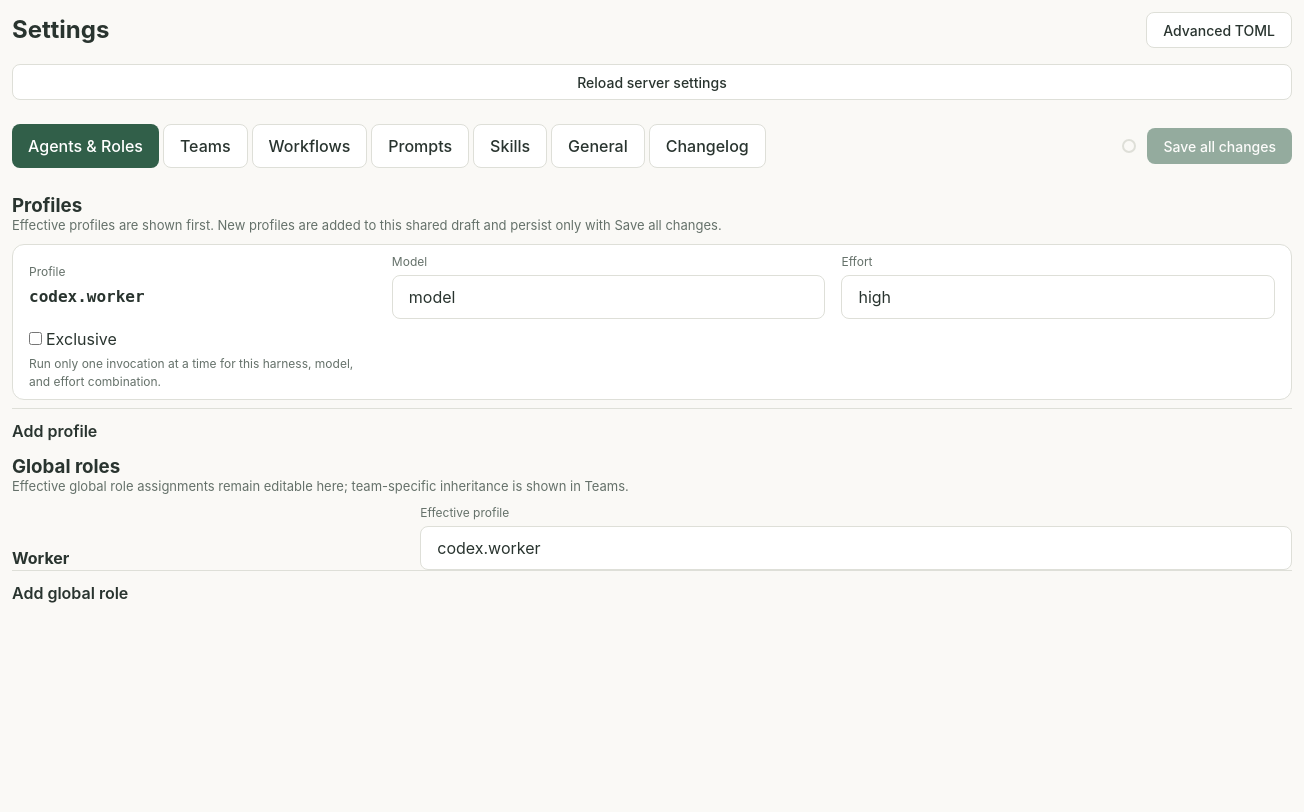
Test: GlobalSettings › previews unsaved repair thresholds and inheritance sources from the current draft
This screenshot has width=1304, height=812.
Click the tab "Workflows" at [309, 146], box top-left (252, 124), bottom-right (367, 168)
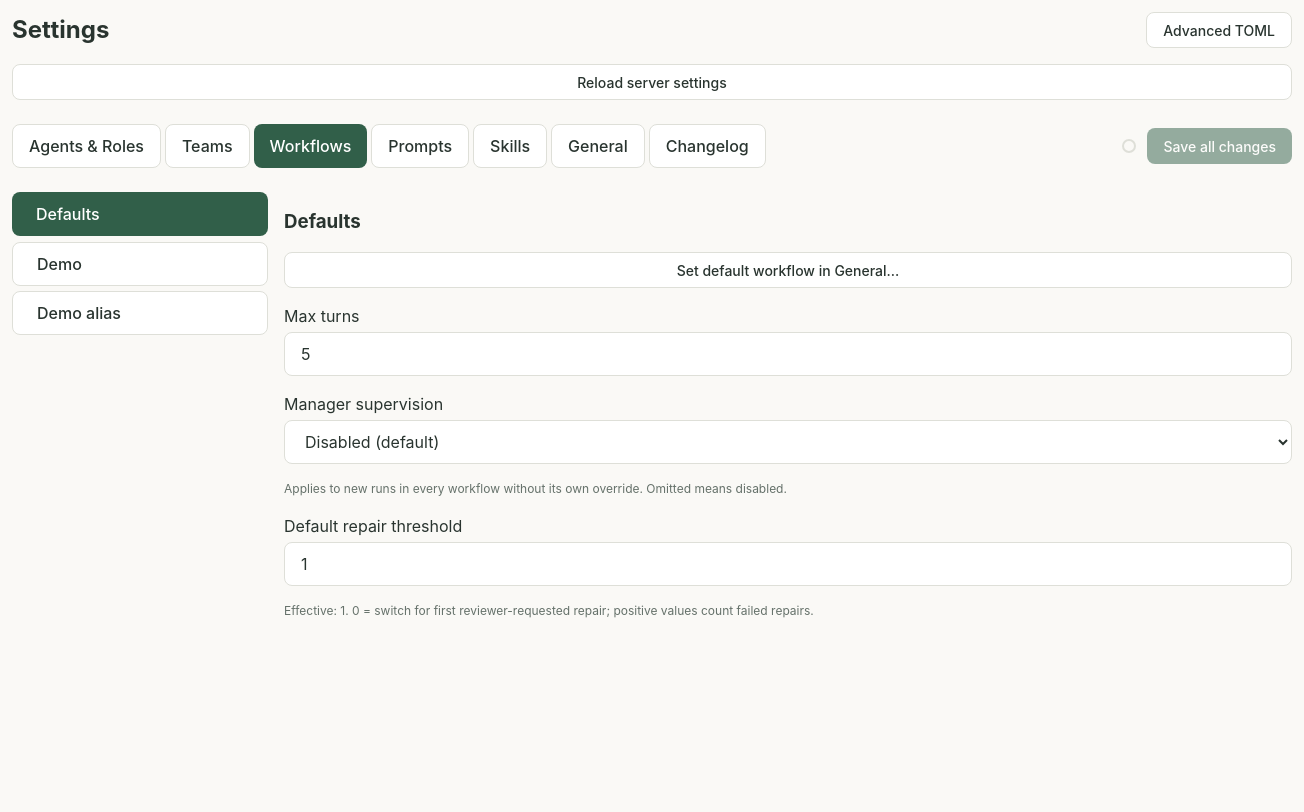
Replace the text in the number field labelled "Default repair threshold" with "3" at [788, 564], box top-left (284, 542), bottom-right (1292, 586)
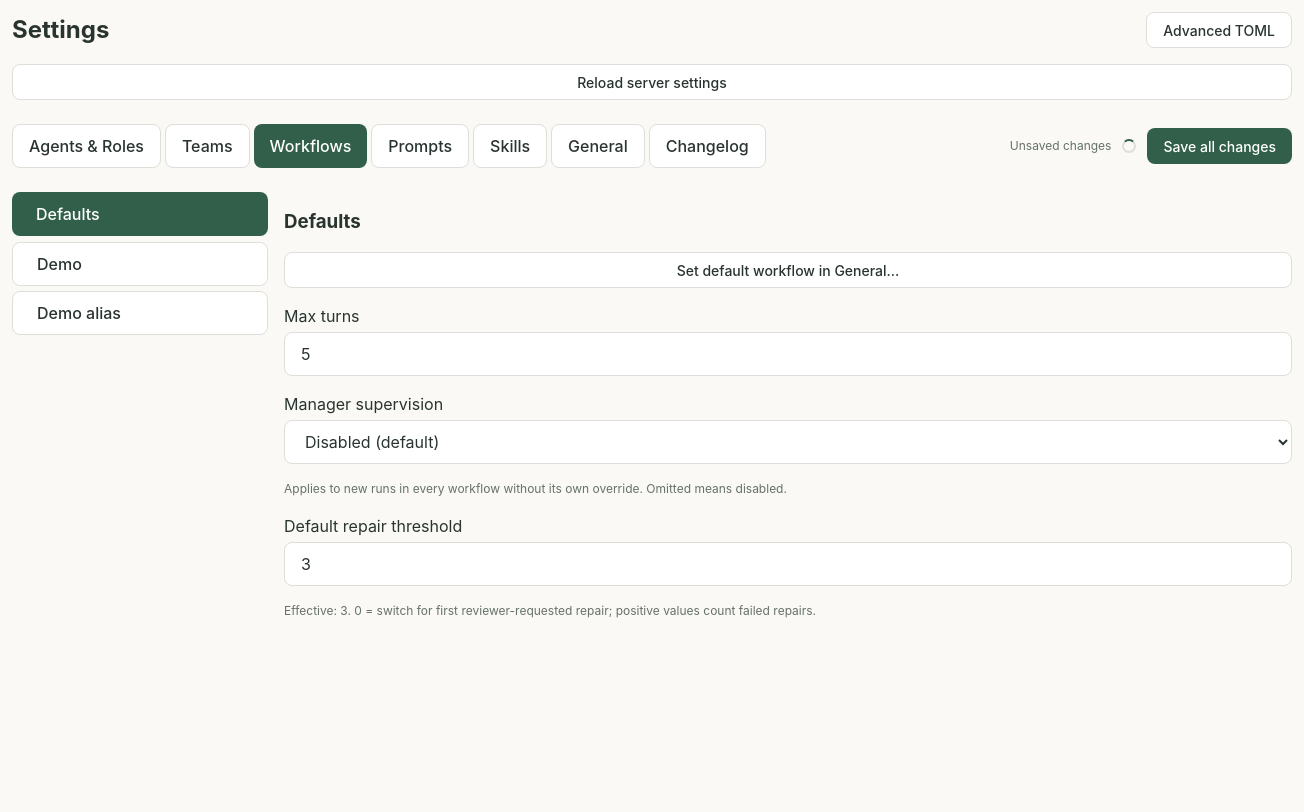
Result: the text "Effective: 3. 0 = switch for first reviewer-requested repair; positive values count failed repairs." is shown at top-left (284, 603), bottom-right (816, 618)
Click the button "Demo" at [140, 264], box top-left (12, 242), bottom-right (268, 286)
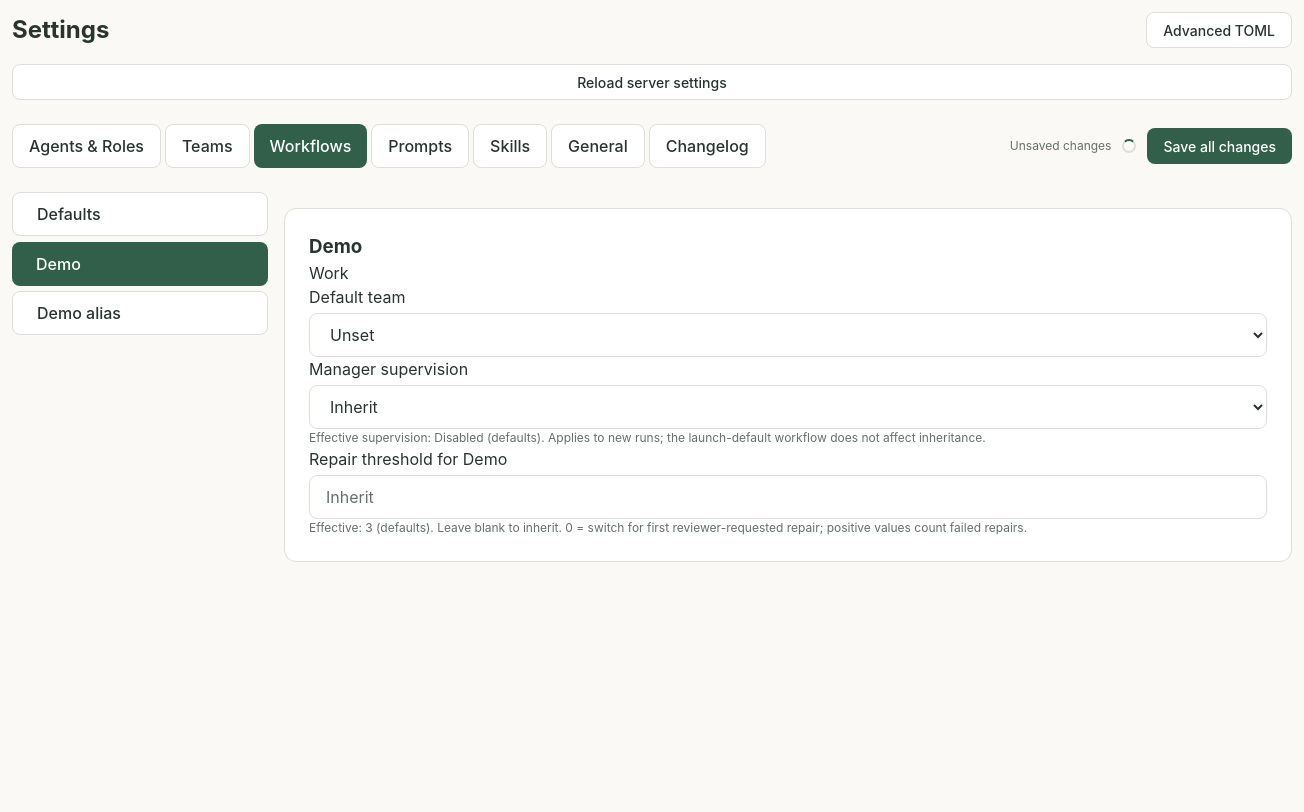
Result: the text "Effective: 3 (defaults). Leave blank to inherit. 0 = switch for first reviewer-requested repair; positive values count f" is shown at top-left (309, 520), bottom-right (1027, 535)
Type "2" into the number field labelled "Repair threshold for Demo" at [788, 497], box top-left (309, 475), bottom-right (1267, 519)
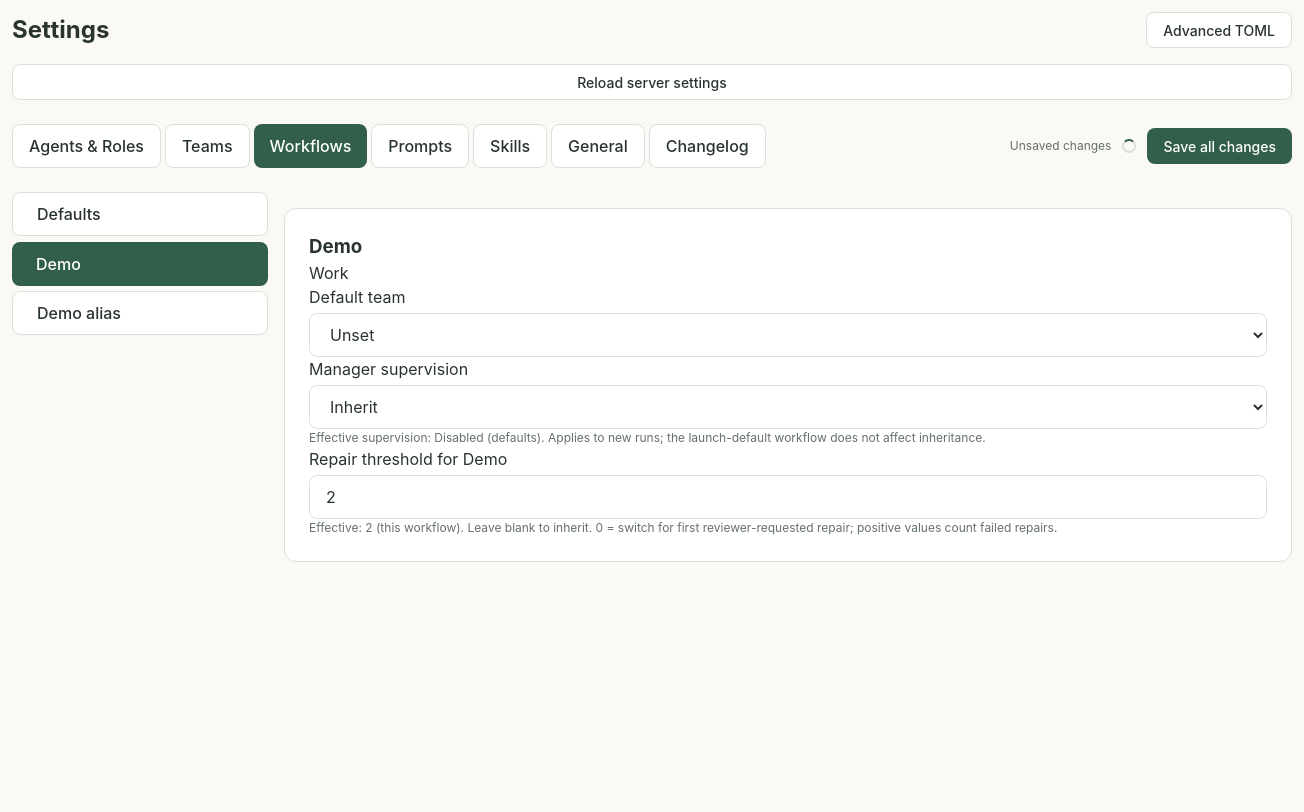
Result: the text "Effective: 2 (this workflow). Leave blank to inherit. 0 = switch for first reviewer-requested repair; positive values co" is shown at top-left (309, 520), bottom-right (1057, 535)
Click the button "Demo alias" at [140, 313], box top-left (12, 291), bottom-right (268, 335)
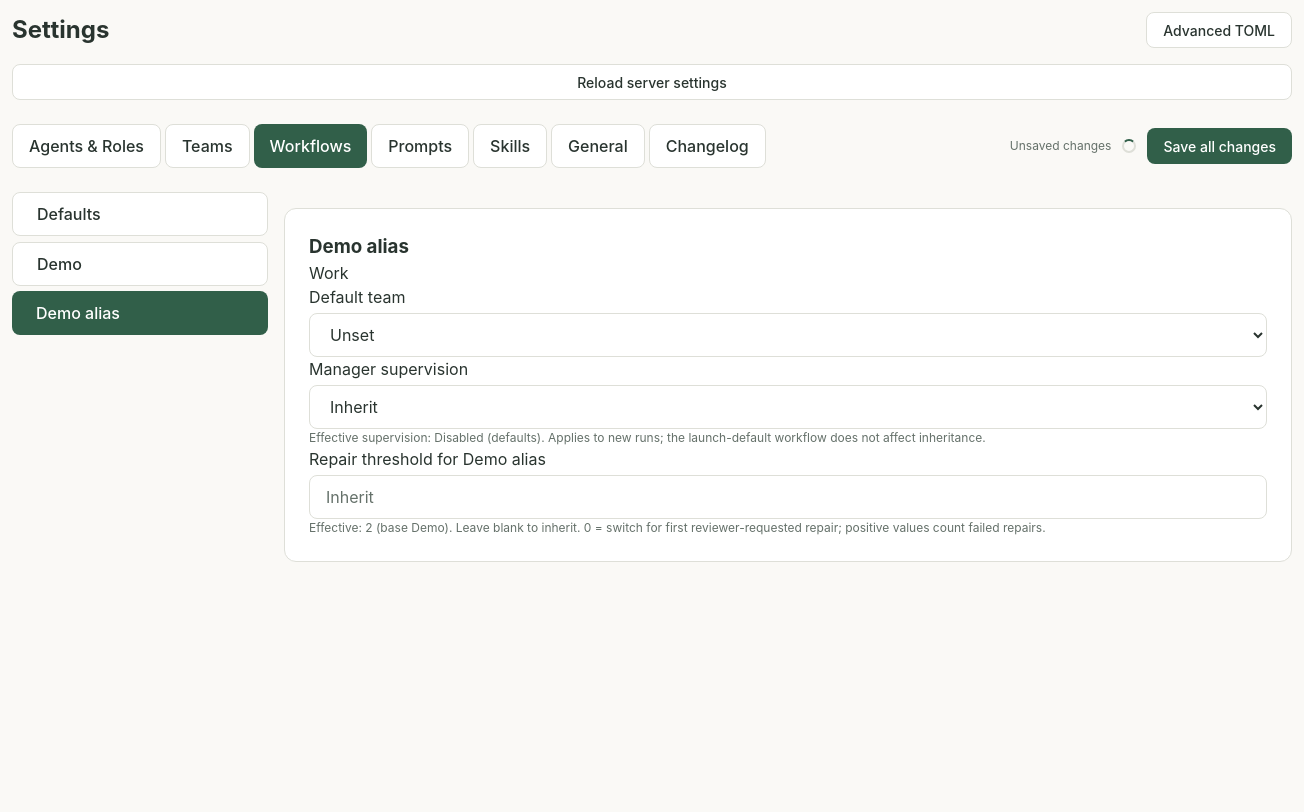
Result: the text "Effective: 2 (base Demo). Leave blank to inherit. 0 = switch for first reviewer-requested repair; positive values count " is shown at top-left (309, 520), bottom-right (1046, 535)
Type "5" into the number field labelled "Repair threshold for Demo alias" at [788, 497], box top-left (309, 475), bottom-right (1267, 519)
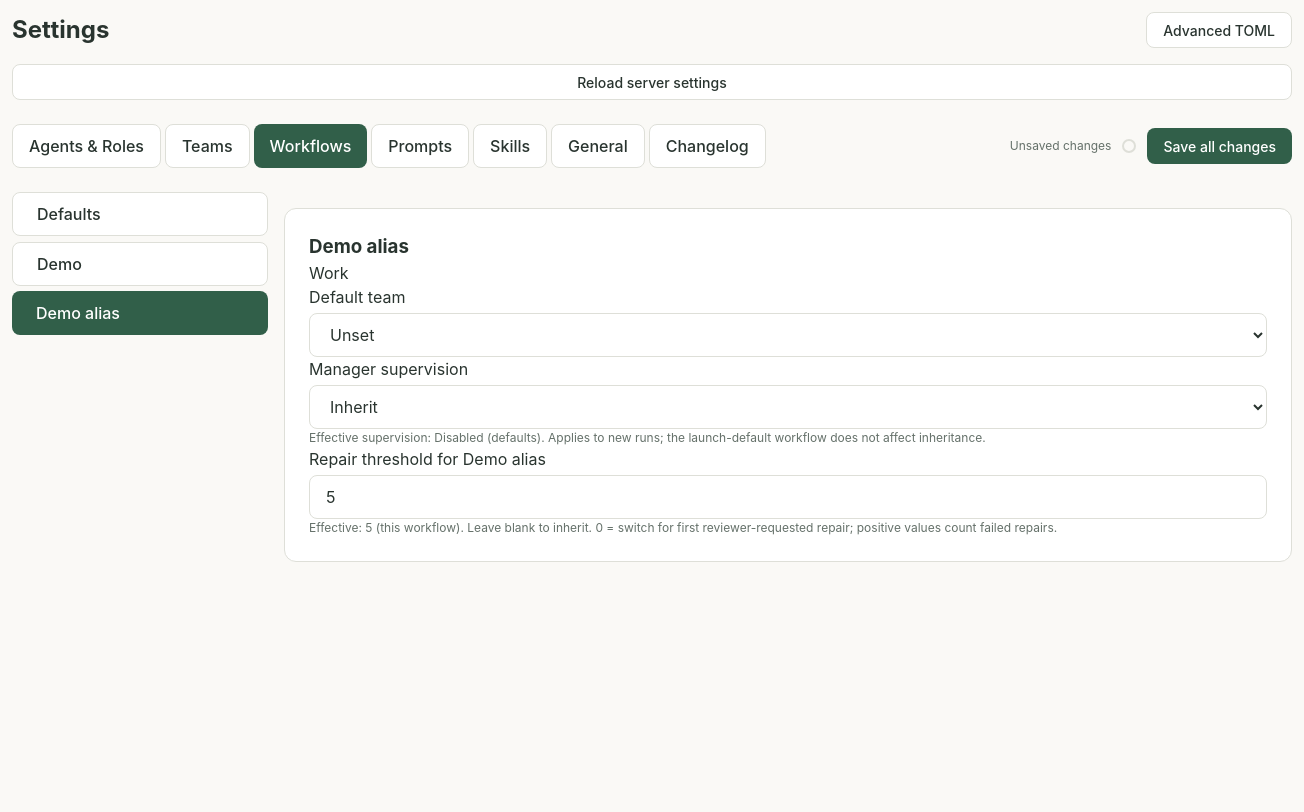
Result: the text "Effective: 5 (this workflow). Leave blank to inherit. 0 = switch for first reviewer-requested repair; positive values co" is shown at top-left (309, 520), bottom-right (1057, 535)
